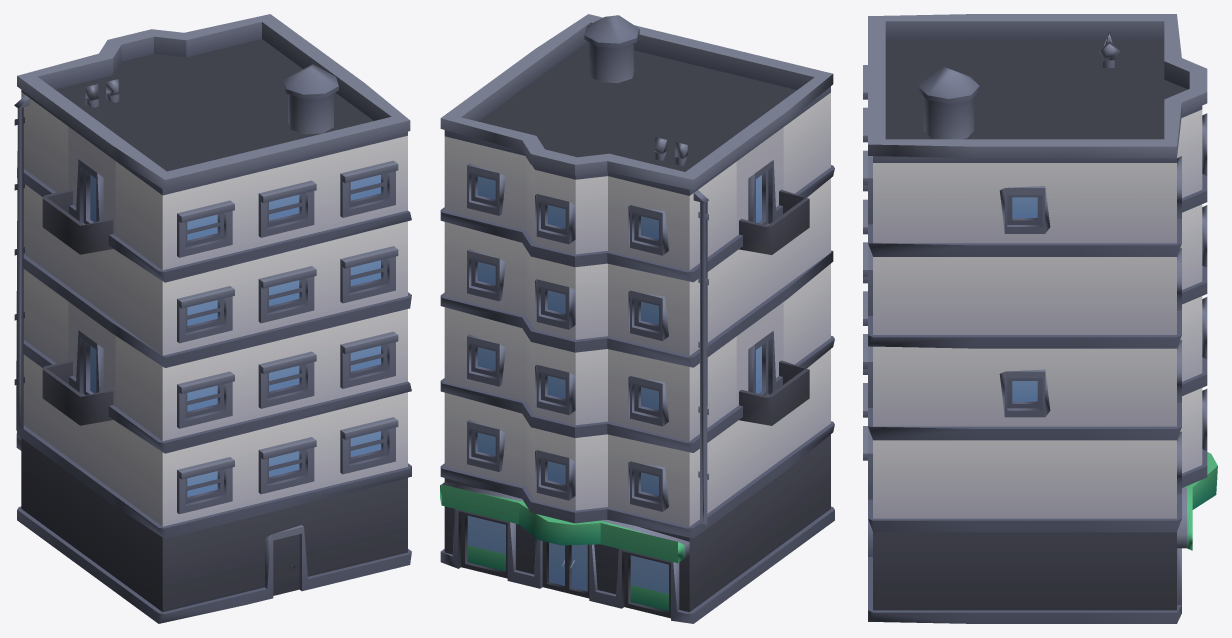
Rendered from 086_city-kit-commercial_building-l_card.glb.
3 views of the same model, side by side, from view 1: azimuth 30°, elevation 25°; view 2: azimuth 150°, elevation 25°; view 3: azimuth 270°, elevation 25° (orthographic). The views are drawn at different scales.
Parts seen in each view (by area): view 1: building-l; view 2: building-l; view 3: building-l.
Boxes of the visible parts, left/top/right/bottom form: building-l: left=14, top=14, right=411, bottom=623; building-l: left=440, top=14, right=834, bottom=623; building-l: left=863, top=14, right=1217, bottom=623.
Size of the model in its own units: 1.37 by 2.27 by 1.4.
Materials: 1 (1 with a texture image).
